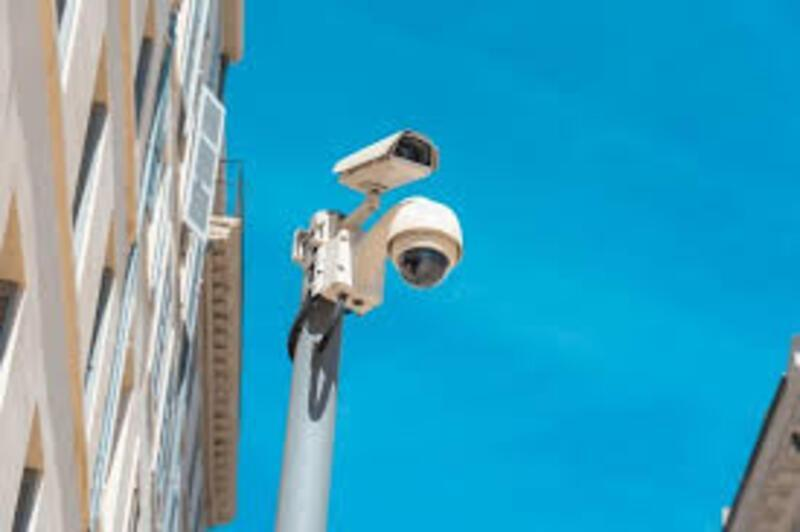box: (322, 158, 422, 221)
dome: (384, 209, 462, 297)
